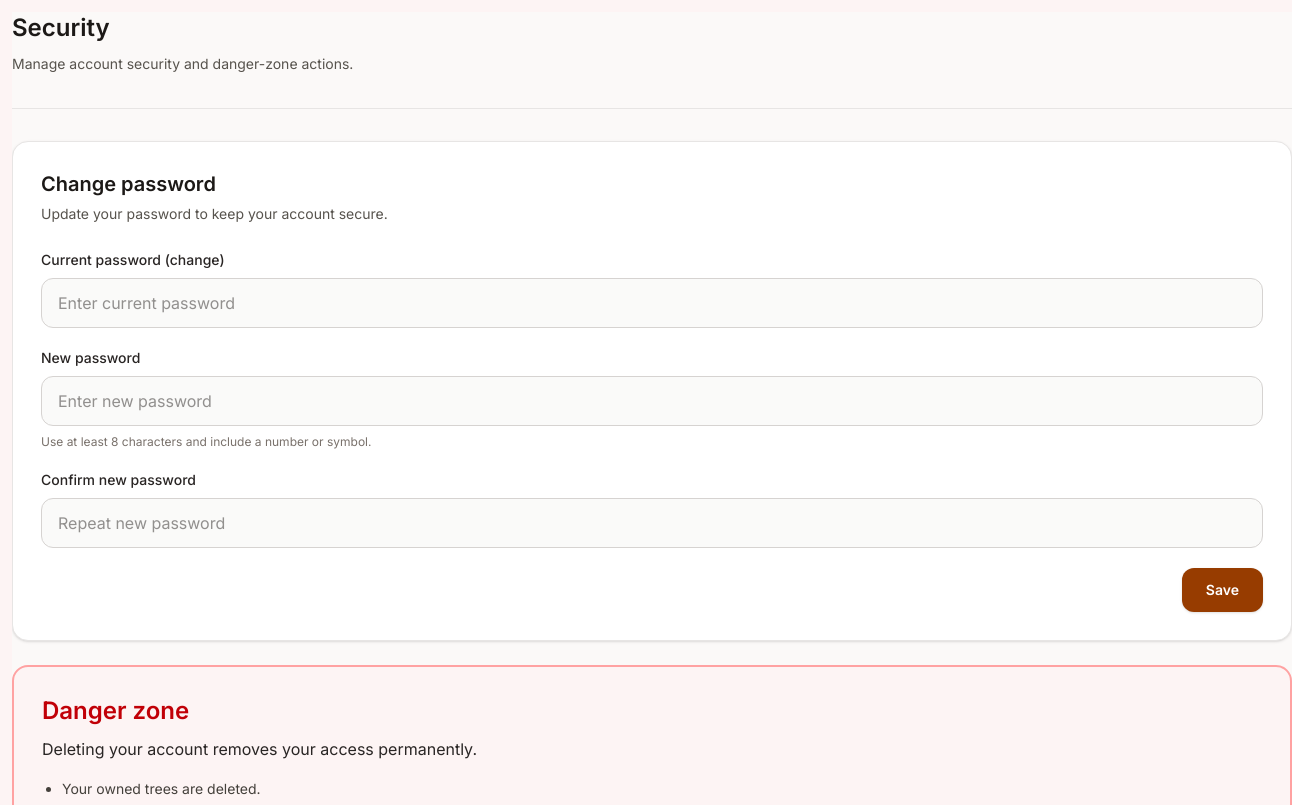
Test case: SecuritySettingsClient › submits password change and shows success state
The image size is (1292, 805).
In the password field labelled "Current password (change)": (652, 303) [41,278,1263,328], type "old-password"
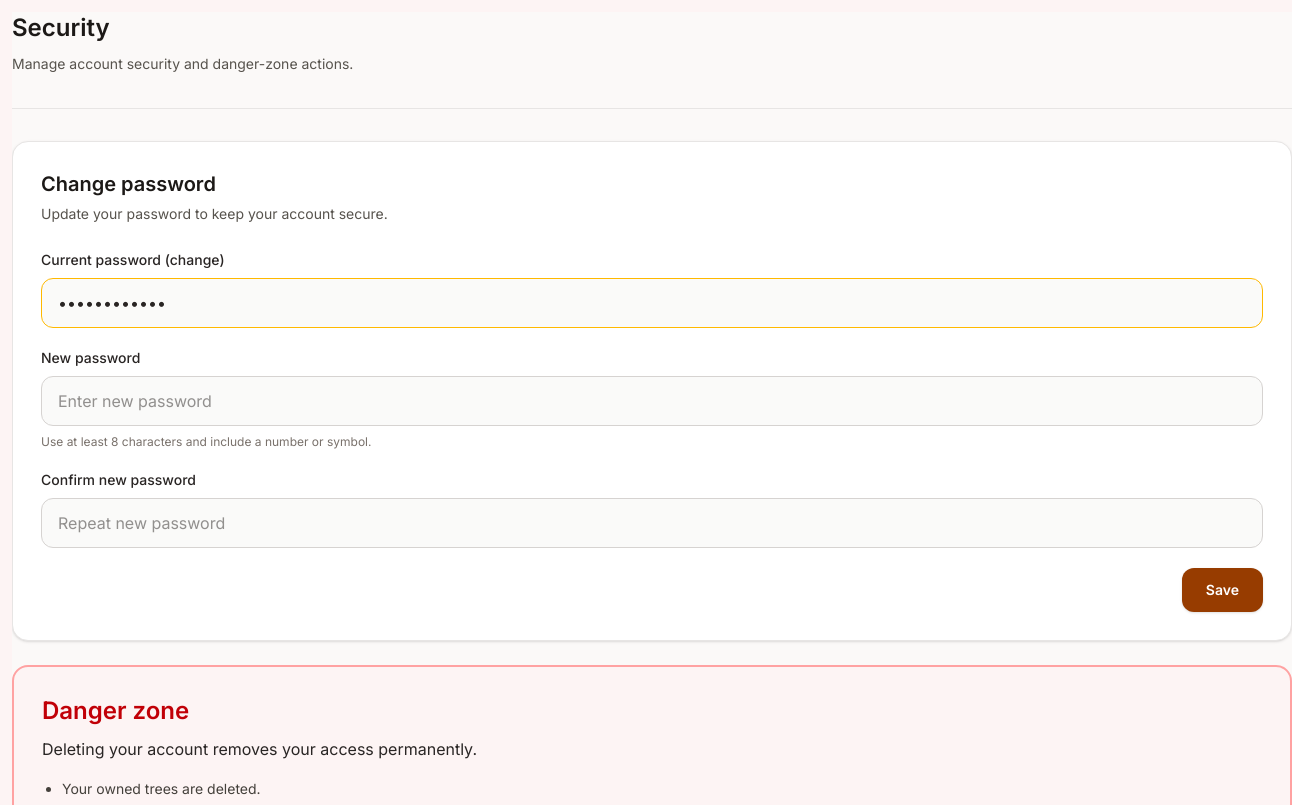
In the password field labelled "New password": (652, 401) [41,376,1263,426], type "Family123"
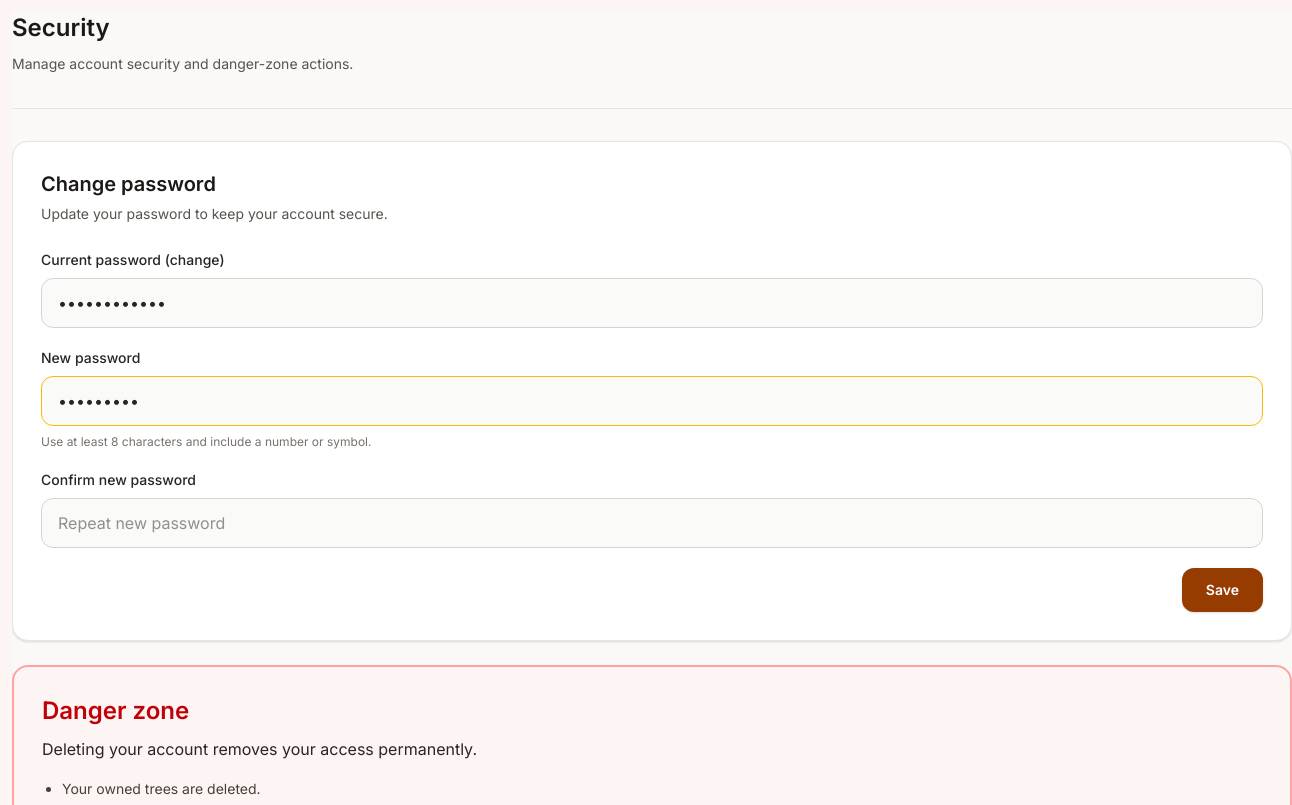
In the password field labelled "Confirm new password": (652, 523) [41,498,1263,548], type "Family123"
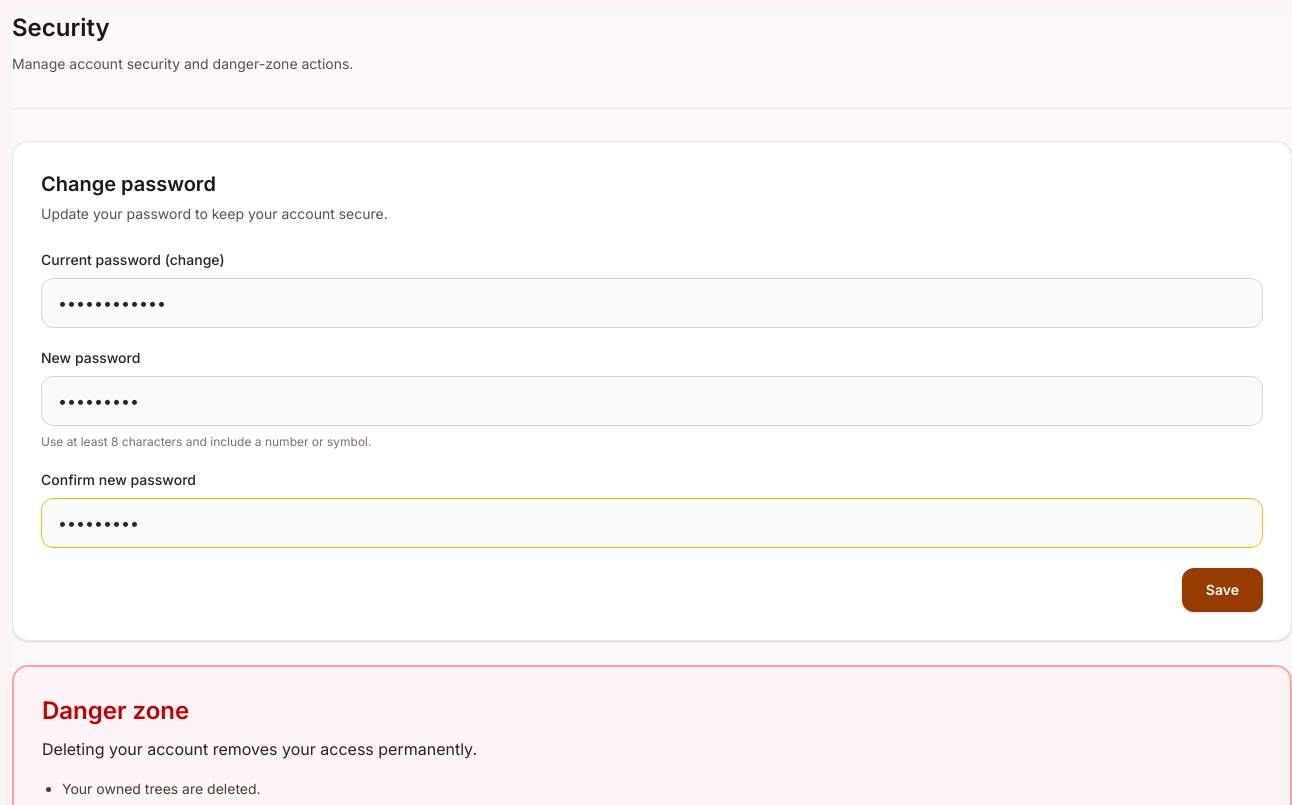
Click the button "Save": click(1222, 590) [1182,568,1263,612]
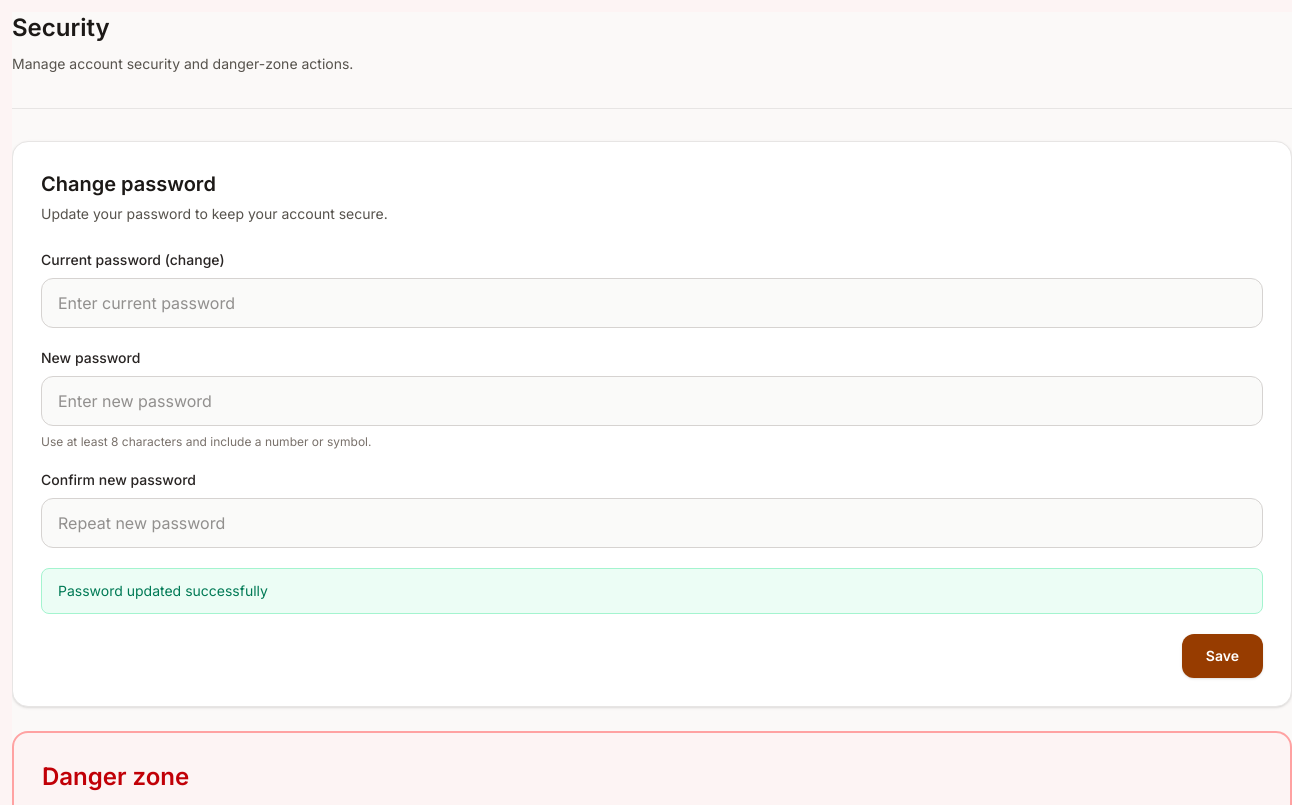
Check: the text "Password updated successfully" is shown, box [41,568,1263,614]
Check: the password field labelled "Current password (change)" is empty, box [41,278,1263,328]
Check: the password field labelled "New password" is empty, box [41,376,1263,426]
